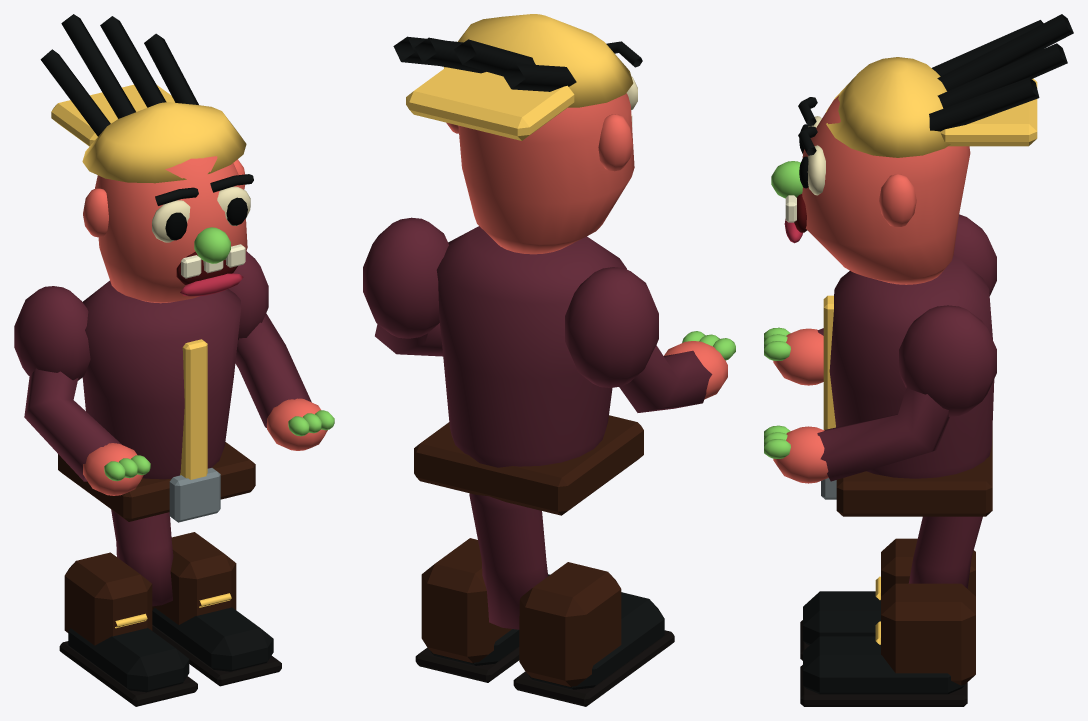
The model's file is fast.glb.
3 views of the same model, side by side, from view 1: azimuth 30°, elevation 25°; view 2: azimuth 150°, elevation 25°; view 3: azimuth 270°, elevation 25° (orthographic). The views are drawn at different scales.
Parts seen in each view (by area): view 1: Head, Body, Arms, LegL, LegR; view 2: Body, Head, Arms, LegL, LegR; view 3: Head, Body, Arms, LegR, LegL.
Part boxes in pixels (x1,y1,x2,y2): Head: (40,14,253,303); Body: (58,280,255,522); Arms: (14,251,334,495); LegL: (59,509,197,706); LegR: (115,512,281,686); Body: (414,226,643,515); Head: (393,14,642,254); Arms: (363,217,735,412); LegL: (476,495,674,706); LegR: (415,493,549,682); Head: (771,14,1073,284); Body: (821,254,994,516); Arms: (764,214,996,483); LegR: (800,516,975,706); LegL: (800,516,982,660).
Bounding box in the file's own units: 0.5769 × 1.28 × 0.5558.
Materials: 1 (1 with a texture image).
